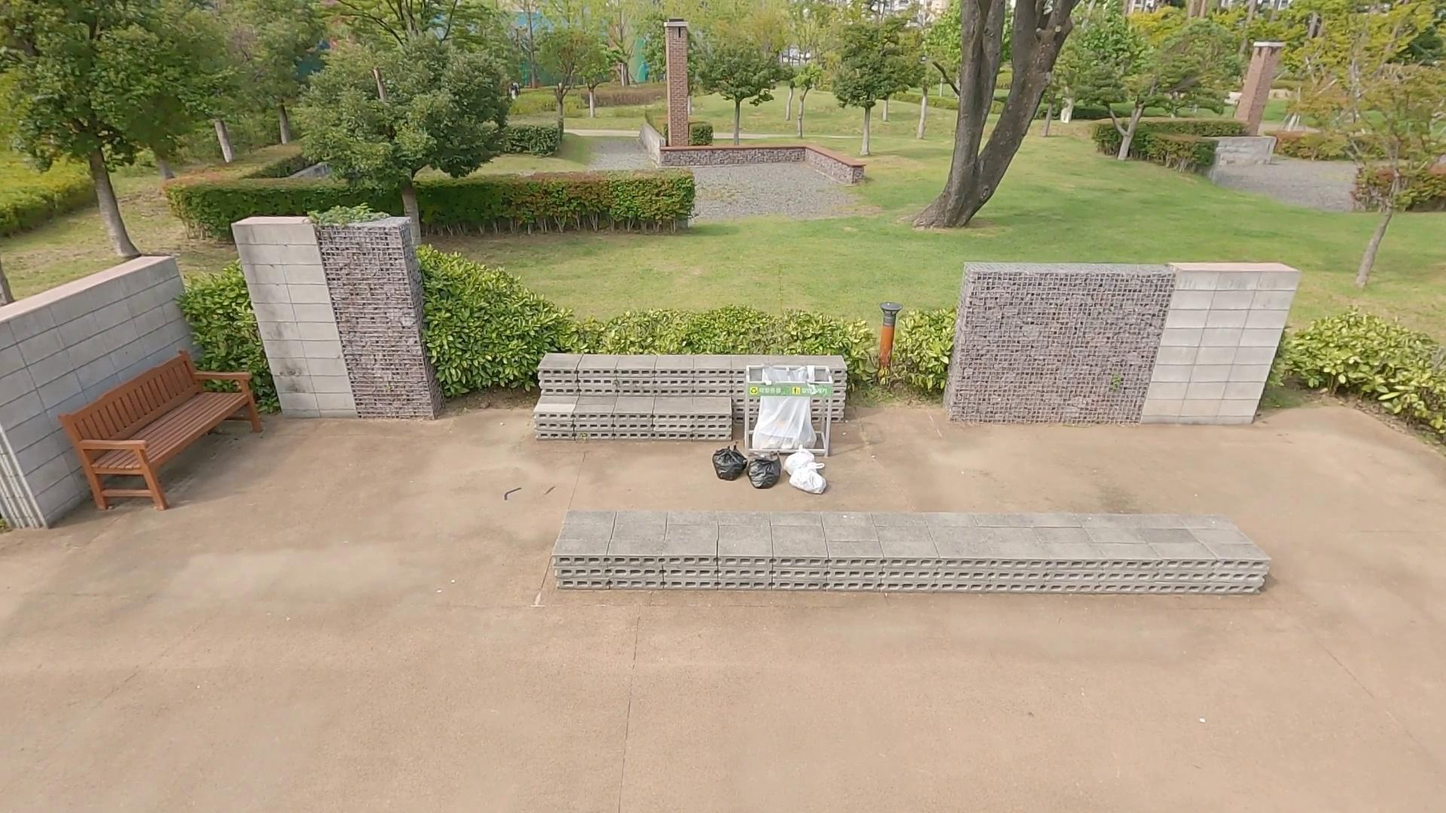trash: (785, 457, 826, 498), (747, 446, 783, 491), (713, 443, 751, 480), (782, 442, 819, 479)
